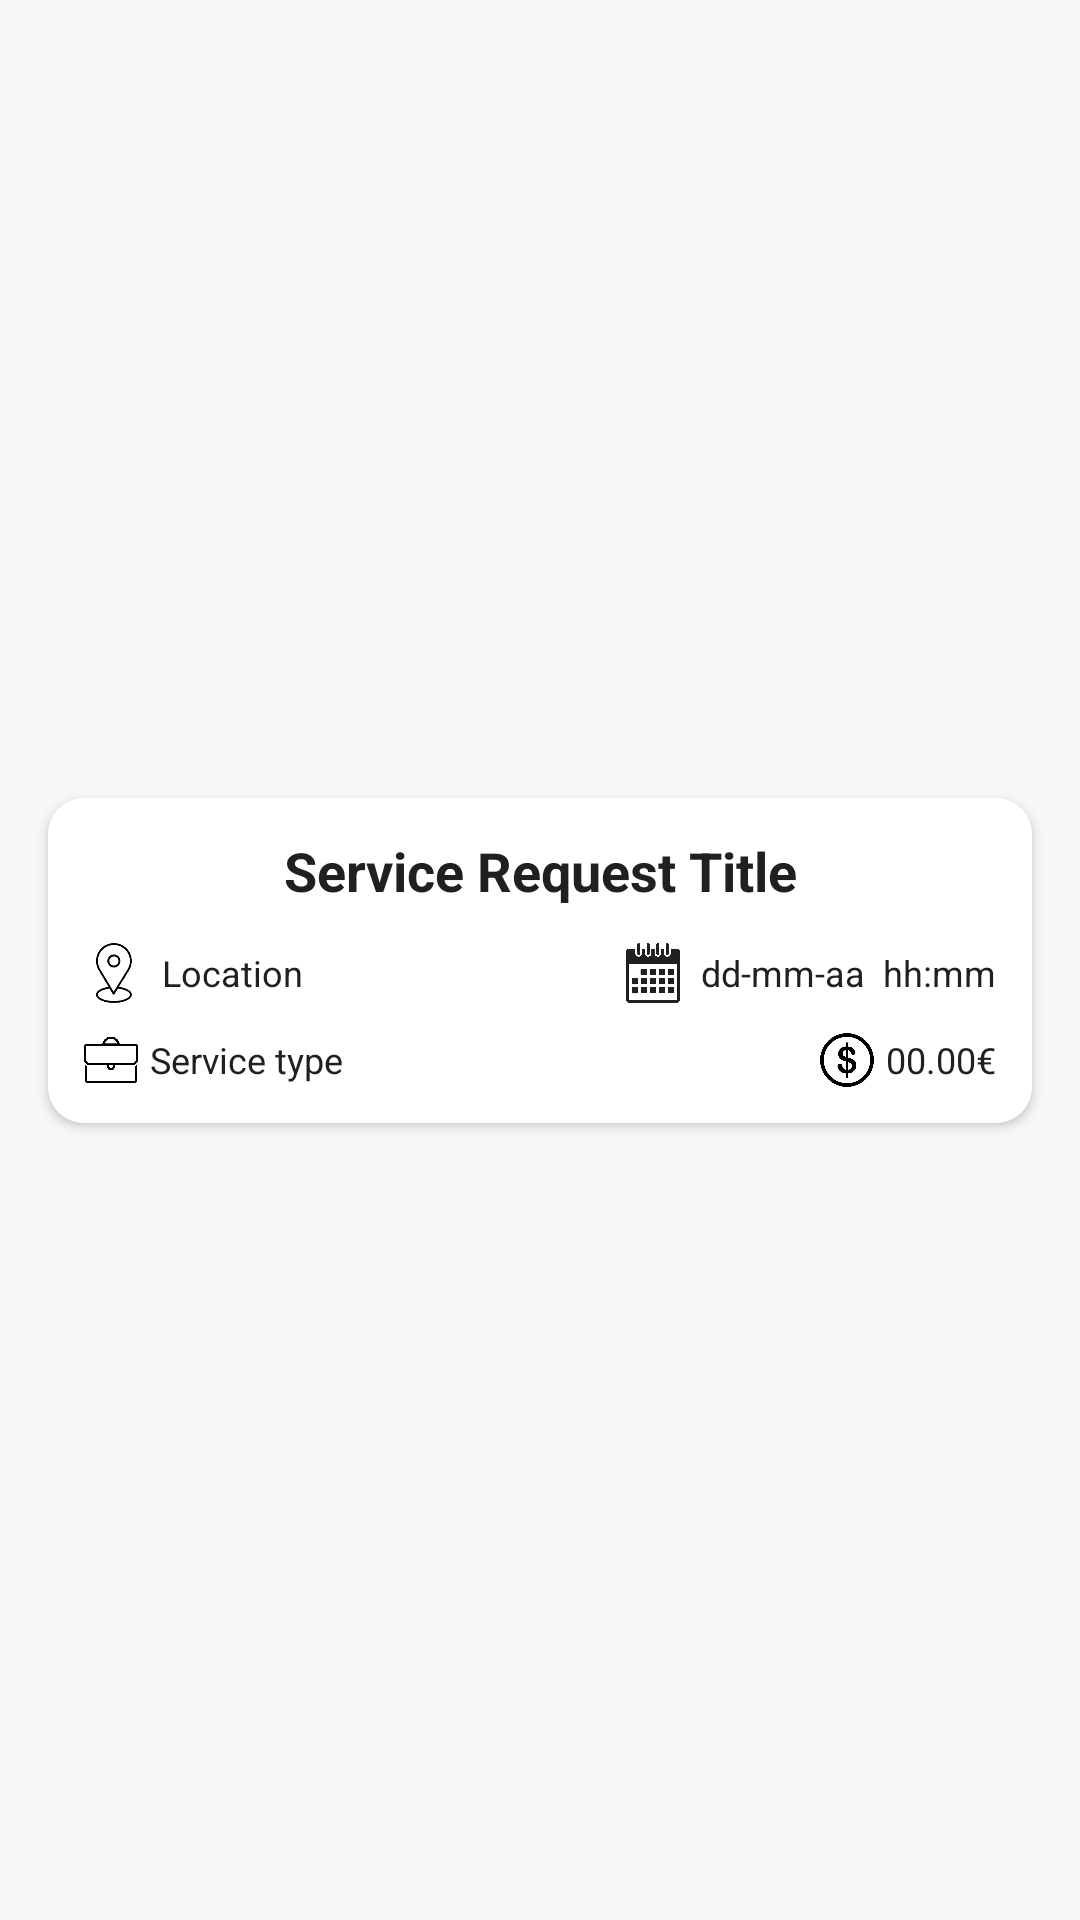

Point at icon controls on the screen. Image size 1080px×1920px, points as [x,y].
budget: [847,1060]
calendar: [653,973]
